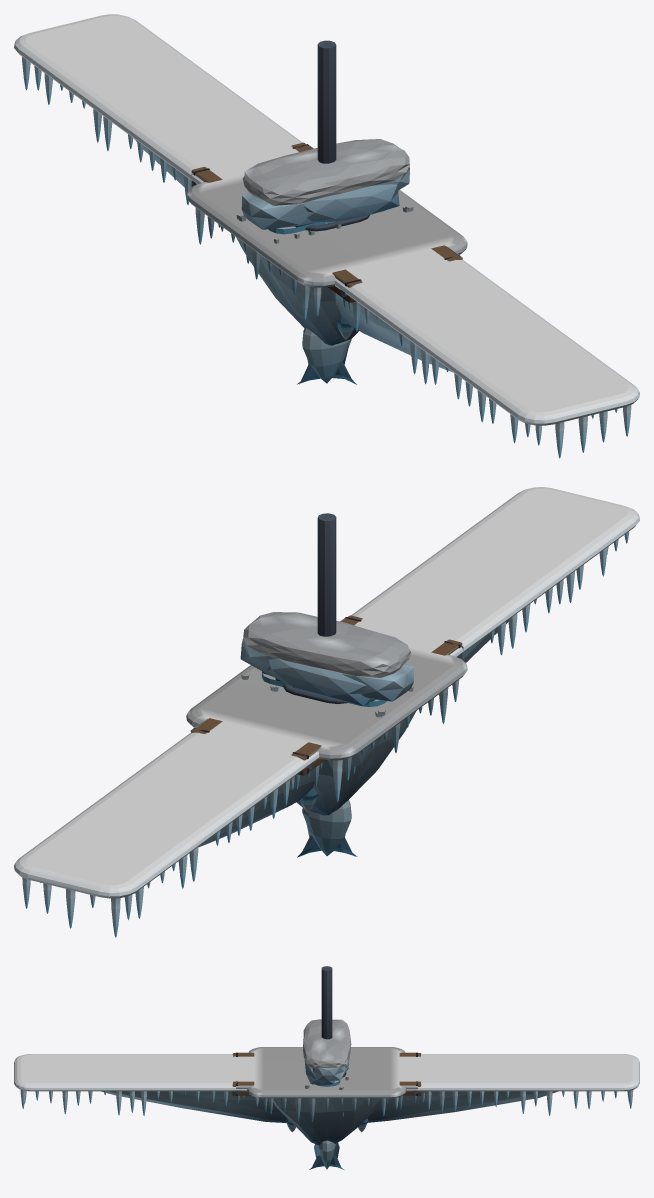
Rendered from glacier-2-CD0G7d5K.glb.
3 views of the same model, one above another, from view 1: azimuth 30°, elevation 25°; view 2: azimuth 150°, elevation 25°; view 3: azimuth 270°, elevation 25° (orthographic). The views are drawn at different scales.
Visible parts, largest first — view 1: block_7x2x56#0, block_10x2x14#0, spout_7x2#0, press_2.5x6x7.5#0, blade_3x10x1#0, belt_7x1.5x17x0#0; view 2: block_7x2x56#0, block_10x2x14#0, spout_7x2#0, press_2.5x6x7.5#0, blade_3x10x1#0, belt_7x1.5x17x0#0; view 3: block_7x2x56#0, block_10x2x14#0, spout_7x2#0, press_2.5x6x7.5#0, belt_7x1.5x17x0#0, support_0_round#0, blade_3x10x1#0.
Part boxes in pixels (x1,y1,x2,y2): block_7x2x56#0: (14,14,639,458); block_10x2x14#0: (186,174,467,345); spout_7x2#0: (236,139,413,243); press_2.5x6x7.5#0: (317,40,353,339); blade_3x10x1#0: (302,327,351,383); belt_7x1.5x17x0#0: (191,142,462,309); block_7x2x56#0: (14,487,639,937); block_10x2x14#0: (186,647,467,815); spout_7x2#0: (240,612,413,717); press_2.5x6x7.5#0: (287,513,336,812); blade_3x10x1#0: (302,800,351,855); belt_7x1.5x17x0#0: (190,615,463,789); block_7x2x56#0: (14,1054,639,1122); block_10x2x14#0: (247,1047,406,1145); spout_7x2#0: (303,1019,351,1101); press_2.5x6x7.5#0: (285,966,368,1132); belt_7x1.5x17x0#0: (232,1052,424,1102); support_0_round#0: (309,1142,344,1169); blade_3x10x1#0: (318,1140,335,1169).
Bounding box in the file's own units: 10.36 × 20.55 × 56.36.
